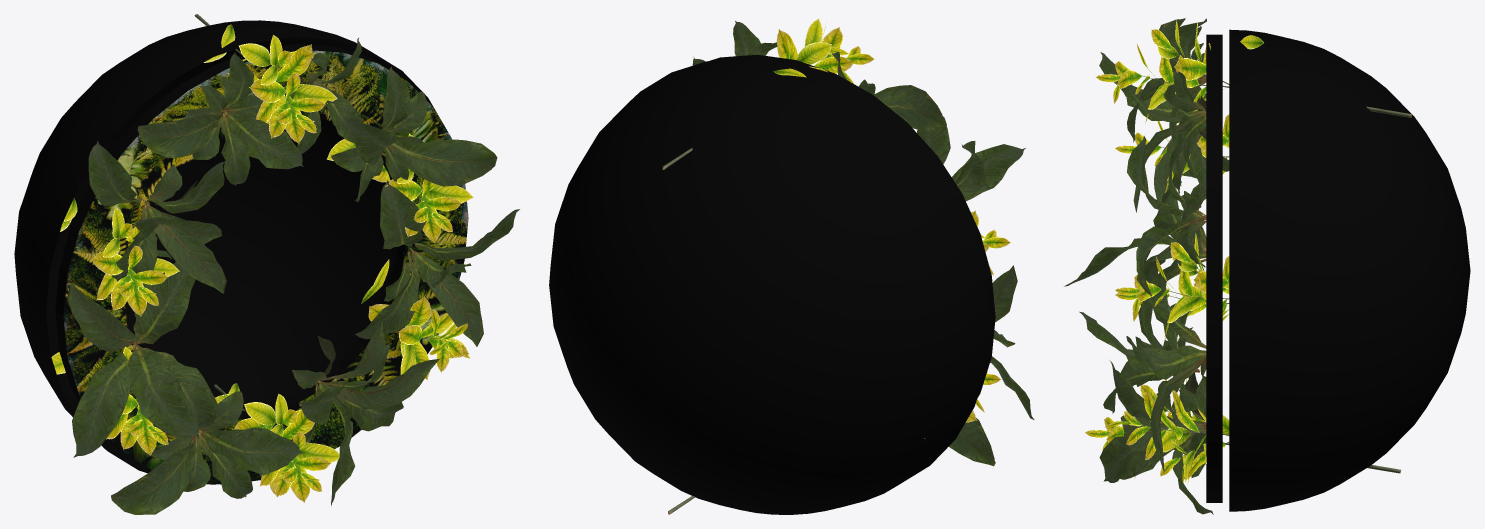
File: portal.glb
3 renders of one model, left to right at view 1: azimuth 30°, elevation 25°; view 2: azimuth 150°, elevation 25°; view 3: azimuth 270°, elevation 25°, orthographic.
Parts seen in each view (by area): view 1: Sphere, Circle, anthurium_botany_01_b.004, anthurium_botany_01_a, anthurium_botany_01_b.003, anthurium_botany_01_a.002, anthurium_botany_01_a.001, anthurium_botany_01_b.001, anthurium_botany_01_b.002, Leaves.004, Leaves.001, Leaves.006 (+4 smaller); view 2: Sphere, Circle, anthurium_botany_01_b.003, Leaves.004, anthurium_botany_01_a.002, anthurium_botany_01_b.004, anthurium_botany_01_a, anthurium_botany_01_b.005; view 3: Sphere, Circle, anthurium_botany_01_b.001, anthurium_botany_01_b.002, anthurium_botany_01_a.001, anthurium_botany_01_b.004, Leaves.004, Leaves.002, anthurium_botany_01_b.003, Leaves.005, anthurium_botany_01_b.005, anthurium_botany_01_a.002 (+4 smaller).
Boxes of the visible parts, x1,y1,x2,y2 form: Sphere: [14, 20, 433, 484]; Circle: [55, 44, 468, 484]; anthurium_botany_01_b.004: [67, 262, 217, 457]; anthurium_botany_01_a: [111, 391, 302, 514]; anthurium_botany_01_b.003: [88, 140, 226, 293]; anthurium_botany_01_a.002: [137, 52, 303, 185]; anthurium_botany_01_a.001: [331, 66, 497, 202]; anthurium_botany_01_b.001: [353, 180, 519, 346]; anthurium_botany_01_b.002: [292, 321, 439, 506]; Leaves.004: [194, 14, 337, 143]; Leaves.001: [214, 383, 339, 502]; Leaves.006: [60, 198, 179, 316]; Sphere: [549, 58, 990, 514]; Circle: [710, 54, 995, 398]; anthurium_botany_01_b.003: [917, 126, 1025, 201]; Leaves.004: [662, 18, 874, 169]; anthurium_botany_01_a.002: [832, 52, 946, 131]; anthurium_botany_01_b.004: [990, 265, 1034, 419]; anthurium_botany_01_a: [948, 418, 995, 466]; anthurium_botany_01_b.005: [733, 21, 777, 56]; Sphere: [1229, 29, 1470, 511]; Circle: [1206, 34, 1222, 502]; anthurium_botany_01_b.001: [1079, 260, 1206, 472]; anthurium_botany_01_b.002: [1099, 360, 1213, 514]; anthurium_botany_01_a.001: [1127, 136, 1206, 296]; anthurium_botany_01_b.004: [1064, 138, 1206, 349]; Leaves.004: [1095, 19, 1411, 122]; Leaves.002: [1105, 390, 1229, 483]; anthurium_botany_01_b.003: [1099, 18, 1206, 212]; Leaves.005: [1115, 233, 1229, 336]; anthurium_botany_01_b.005: [1130, 69, 1229, 193]; anthurium_botany_01_a.002: [1127, 18, 1206, 144].
Size of the model in its own units: 2.08 by 2.17 by 1.69.
8 materials, 5 textured.
